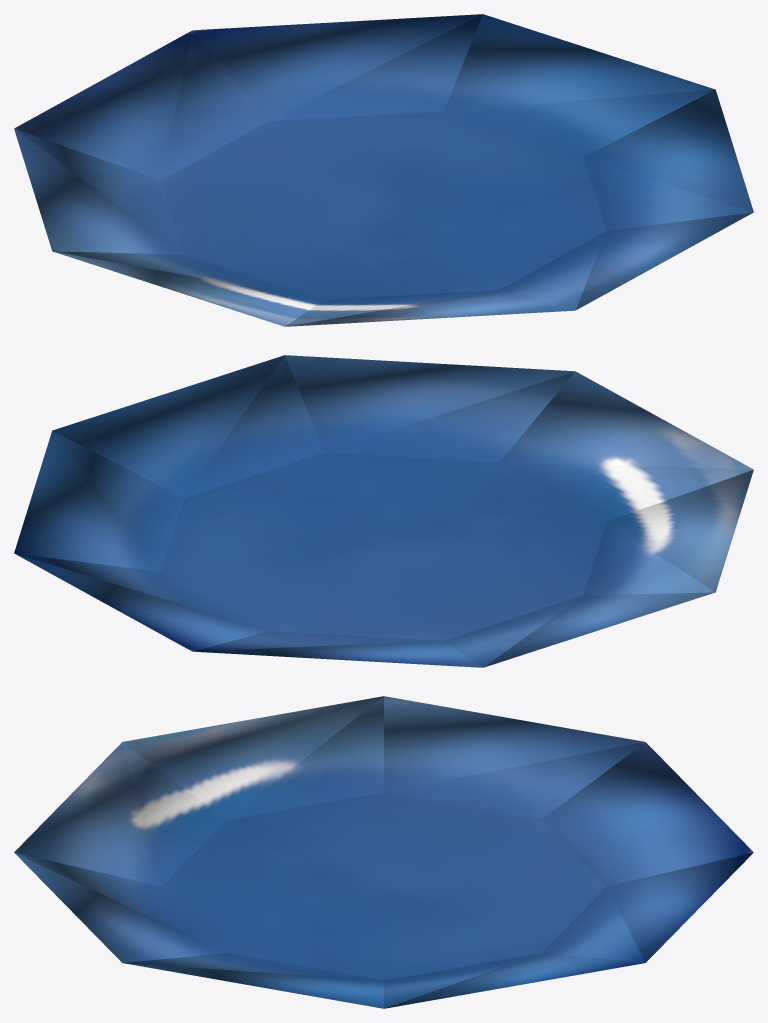
Rendered from prato.glb.
The picture shows the model from 3 angles, top to bottom: view 1: azimuth 30°, elevation 25°; view 2: azimuth 150°, elevation 25°; view 3: azimuth 270°, elevation 25°; orthographic projection. The views are drawn at different scales.
Parts seen in each view (by area): view 1: prato; view 2: prato; view 3: prato.
Part boxes in pixels (<box>): prato: <box>14,14,753,326</box>; prato: <box>14,355,753,667</box>; prato: <box>14,696,753,1008</box>.
Bounding box in the file's own units: 0.2866 × 0.02 × 0.2866.
Materials: 1 (1 with a texture image).
